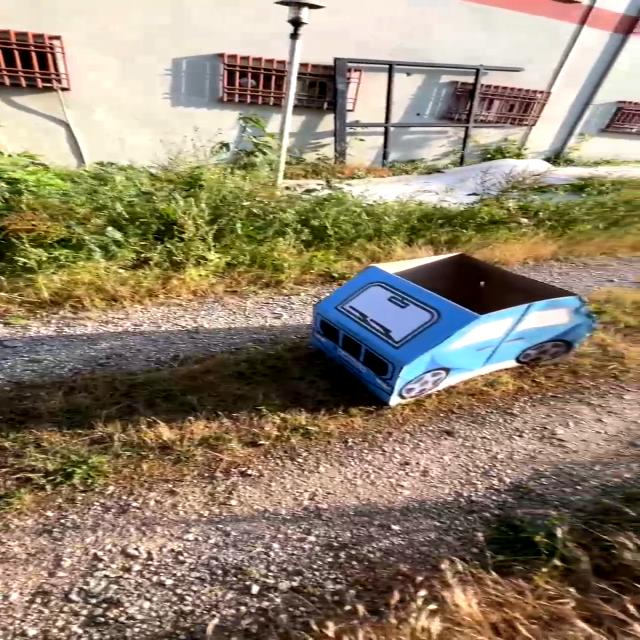blue_car: (266, 230, 640, 428)
